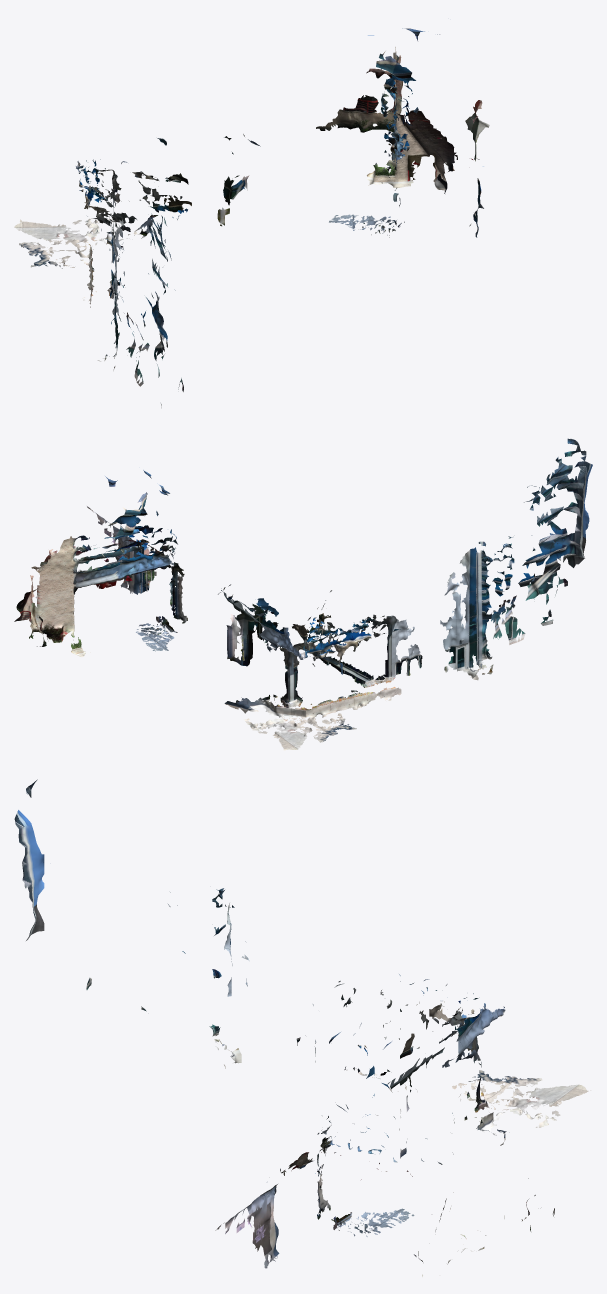
The model's file is 134657-AebFrontGerhod-tex.glb.
3 renders of one model, top to bottom at view 1: azimuth 30°, elevation 25°; view 2: azimuth 150°, elevation 25°; view 3: azimuth 270°, elevation 25°, orthographic. The views are drawn at different scales.
Visible parts, largest first — view 1: Node; view 2: Node; view 3: Node.
Boxes of the visible parts, x1=… form: Node: x1=14, y1=28, x2=489, y2=408; Node: x1=14, y1=438, x2=592, y2=750; Node: x1=14, y1=779, x2=590, y2=1276.
Bounding box in the file's own units: 42 × 17.98 × 34.98.
10 materials, 10 textured.
